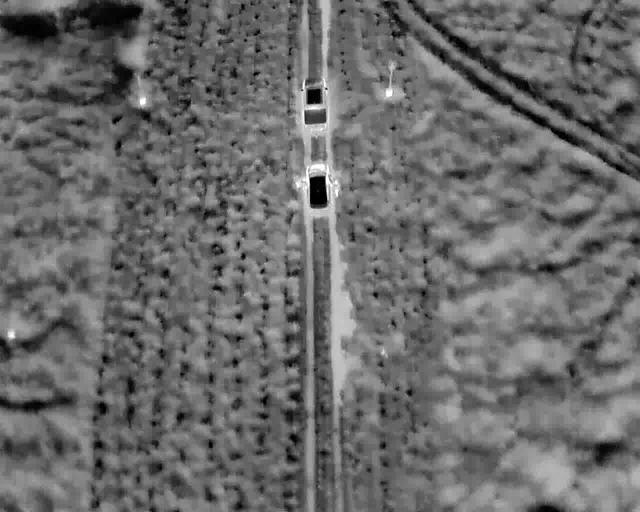car: (300, 76, 329, 126), (304, 160, 333, 209)
person: (295, 171, 308, 195), (331, 178, 342, 199)
